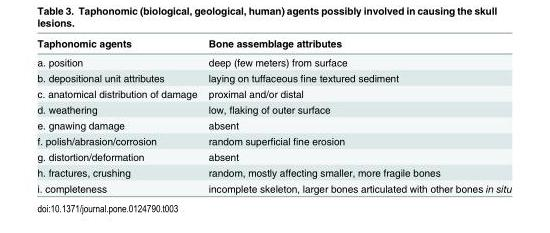table: (36, 36, 511, 194)
table column: (202, 36, 511, 194), (36, 36, 202, 194)
table column header: (36, 36, 511, 52)
table row: (36, 52, 511, 69), (36, 36, 511, 52), (36, 69, 511, 85), (36, 85, 511, 101), (36, 101, 511, 117), (36, 132, 511, 148), (36, 148, 511, 164), (36, 164, 511, 180), (36, 117, 511, 132), (36, 180, 511, 194)
